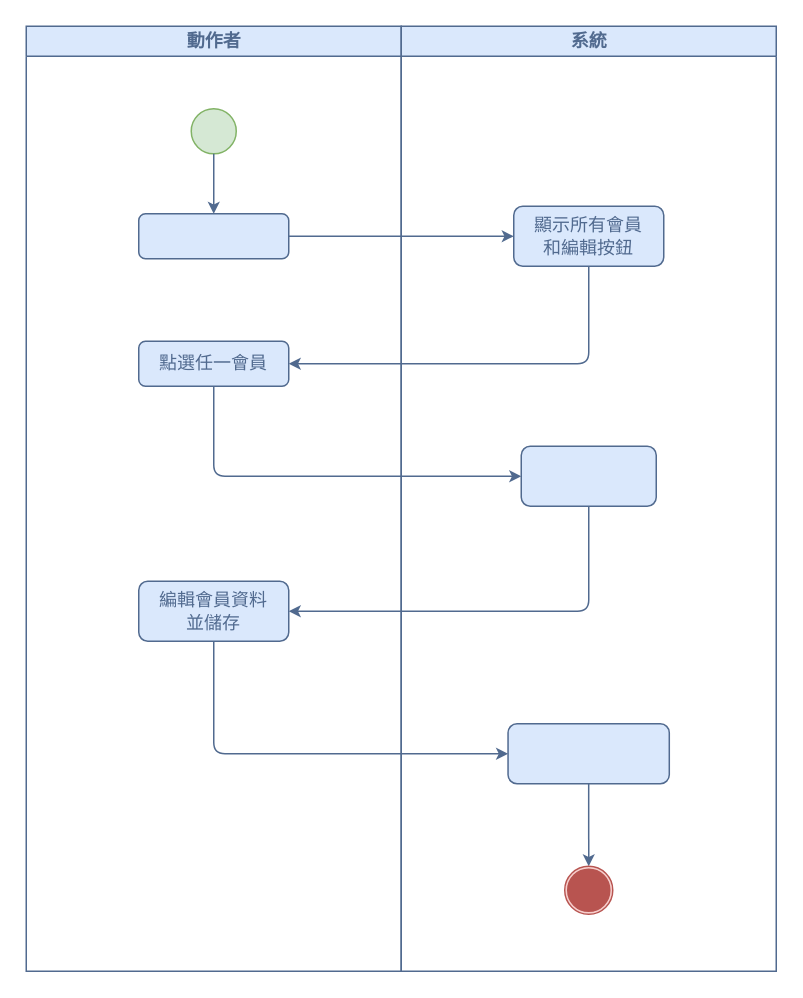
Image size: 803x998. Some labels were removed from this diagram. Each missing label, with the centre of its shape:
"儲存變更 至資料庫" belongs at point (588, 753).
"顯示會員 詳細資料" belongs at point (588, 475).
"點選管理會員" belongs at point (213, 235).
